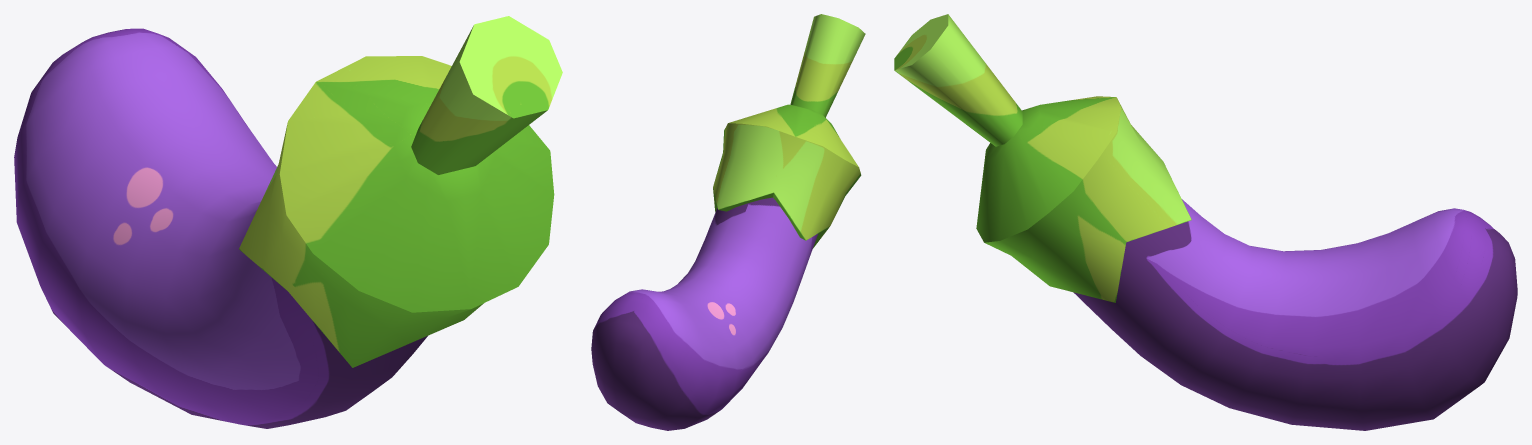
File: eggplantWhole5_-_roughness_test.fbx
3 views of the same model, side by side, from view 1: azimuth 30°, elevation 25°; view 2: azimuth 150°, elevation 25°; view 3: azimuth 270°, elevation 25° (orthographic). The views are drawn at different scales.
Parts seen in each view (by area): view 1: eggplantWhole, eggplantWhole leaf; view 2: eggplantWhole, eggplantWhole leaf; view 3: eggplantWhole, eggplantWhole leaf.
Part boxes in pixels (<box>): eggplantWhole: <box>14,28,427,428</box>; eggplantWhole leaf: <box>239,16,562,367</box>; eggplantWhole: <box>591,197,818,430</box>; eggplantWhole leaf: <box>713,14,865,248</box>; eggplantWhole: <box>1073,199,1517,430</box>; eggplantWhole leaf: <box>894,14,1191,302</box>.
Size of the model in its own units: 64.62 by 136 by 193.
2 materials, 2 textured.
